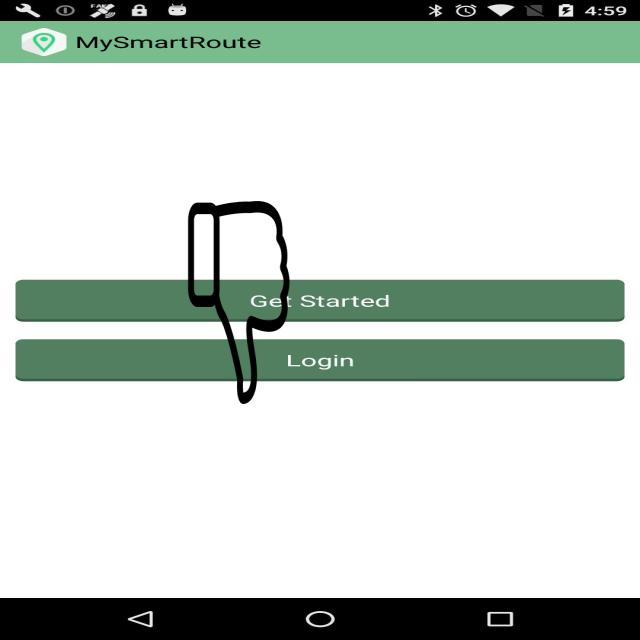obstruction: (187, 201, 291, 404)
